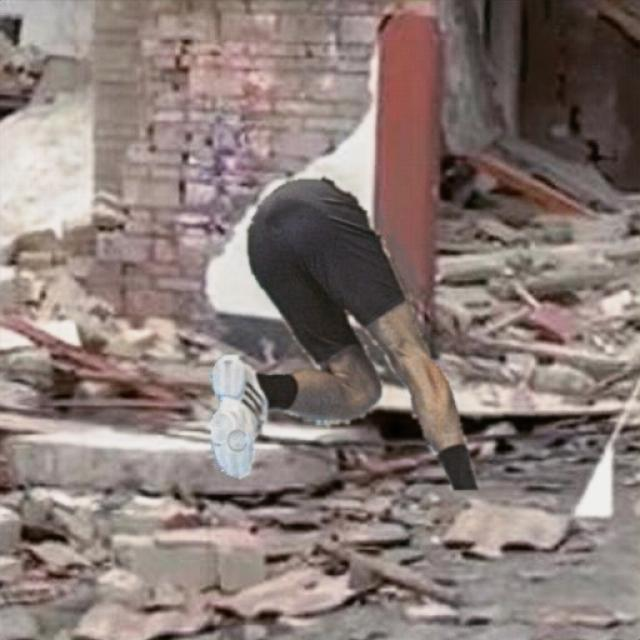Person in Rubble: (212, 177, 478, 488)
